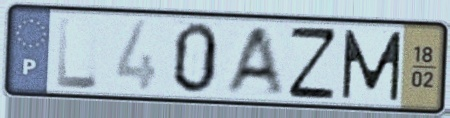0: (171, 20, 222, 97)
4: (112, 17, 160, 95)
A: (219, 24, 286, 96)
L: (55, 13, 101, 91)
M: (339, 27, 405, 103)
Z: (286, 25, 339, 101)
